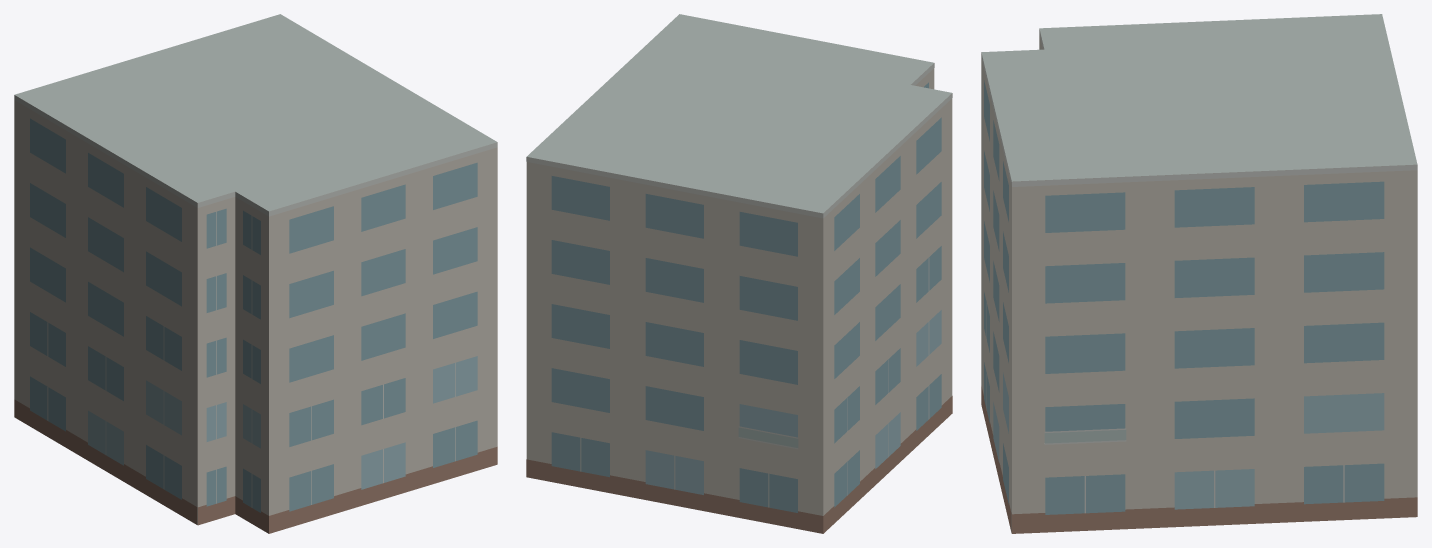
File: survey-upis-32637893.glb
The picture shows the model from 3 angles, left to right: view 1: azimuth 30°, elevation 25°; view 2: azimuth 150°, elevation 25°; view 3: azimuth 270°, elevation 25°; orthographic projection. The views are drawn at different scales.
Parts seen in each view (by area): view 1: survey-upis-32637893.tmp; view 2: survey-upis-32637893.tmp; view 3: survey-upis-32637893.tmp.
Part boxes in pixels (x1,y1,x2,y2): survey-upis-32637893.tmp: (14, 14, 497, 533); survey-upis-32637893.tmp: (526, 14, 952, 533); survey-upis-32637893.tmp: (981, 14, 1417, 533).
Size of the model in its own units: 15.71 by 15.4 by 17.29.
